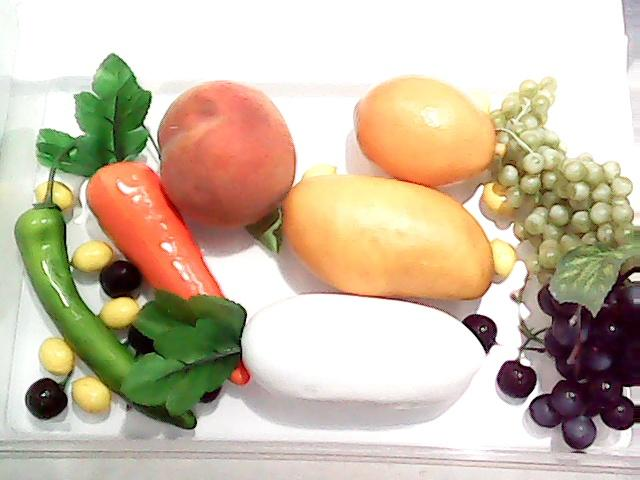carrot: (36, 50, 252, 388)
grape: (488, 68, 640, 284), (524, 266, 640, 466)
lemon: (336, 68, 520, 181)
mango: (279, 173, 495, 301)
peach: (156, 79, 296, 232)
pepper: (14, 146, 202, 434)
radish: (128, 288, 488, 424)
